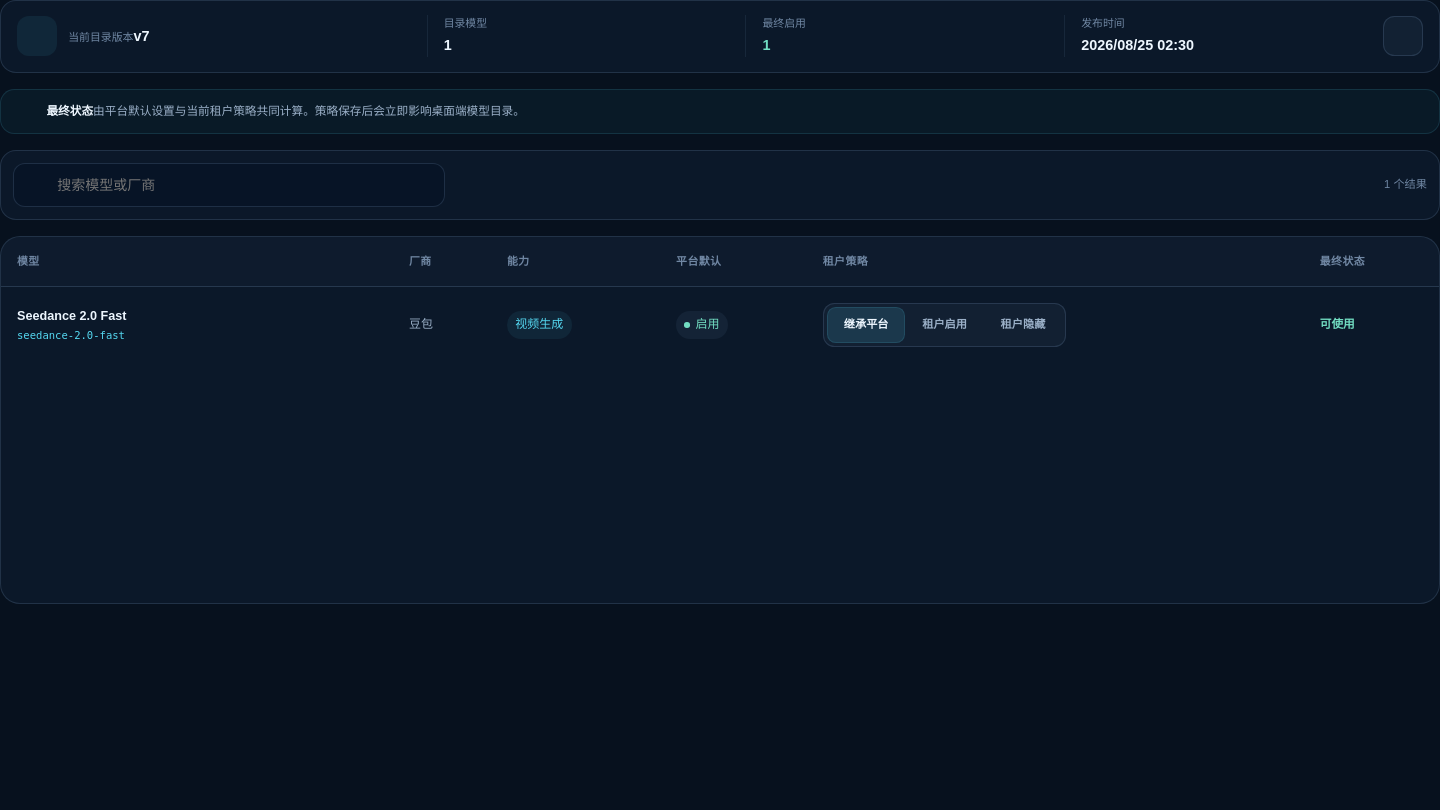
Test: TenantModelPolicyPanel › refreshes the tenant catalog after a rowVersion conflict
Click the button "租户隐藏": x=1023, y=325 [984,307,1062,343]
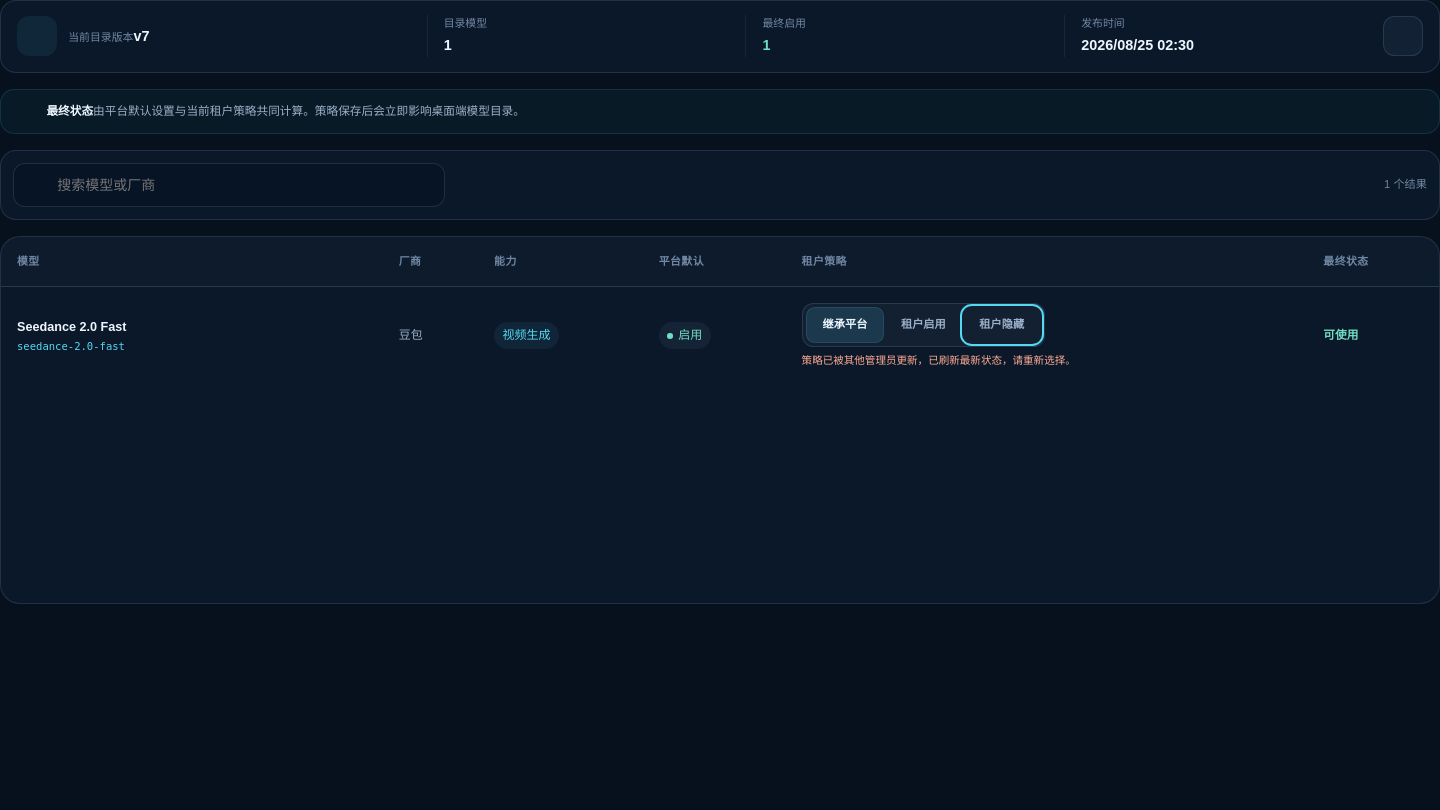
Expected: the text "策略已被其他管理员更新，已刷新最新状态，请重新选择。" is shown, [802,353,1122,368]
